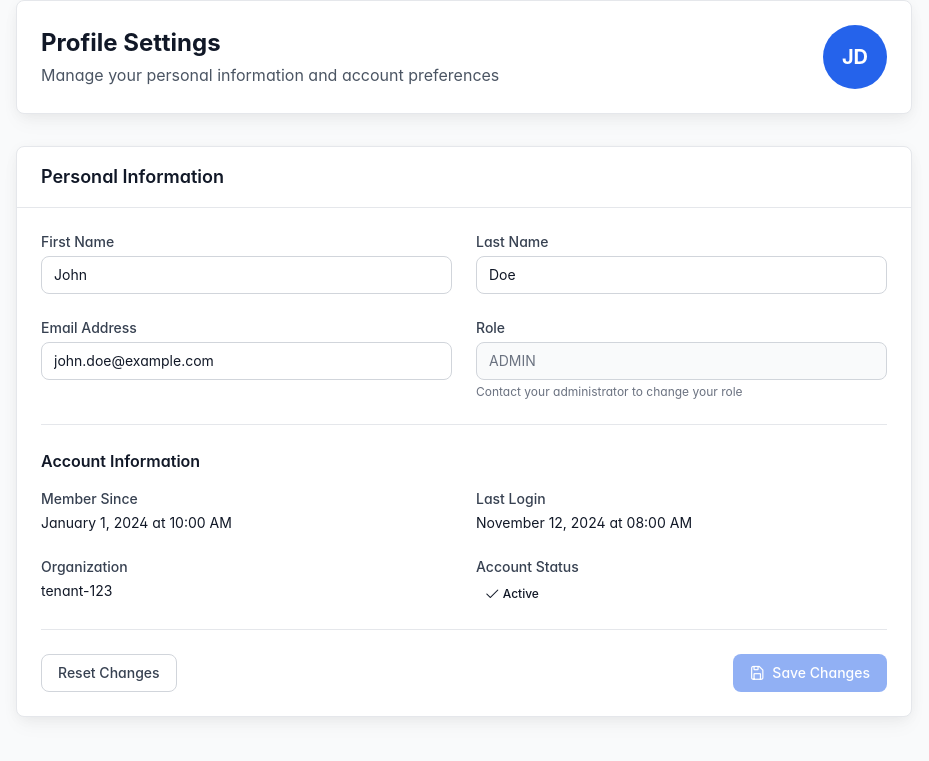
it: ProfileView › Form Validation › should validate required last name
Clear the field with id "lastName": x=682, y=275 [476,256,887,294]
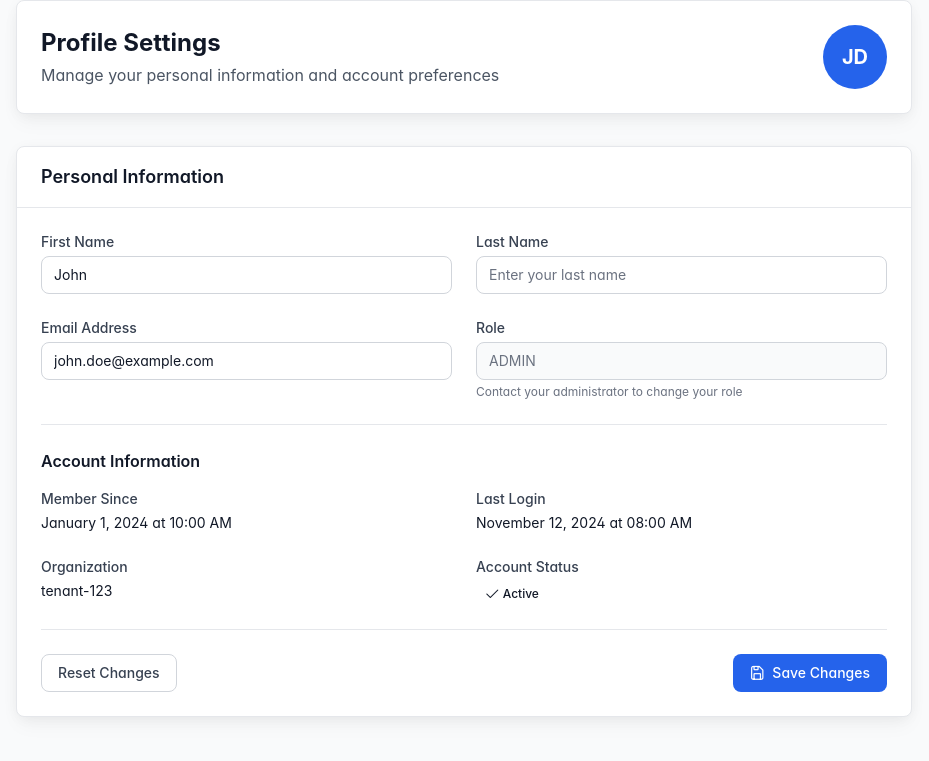
Submit the form
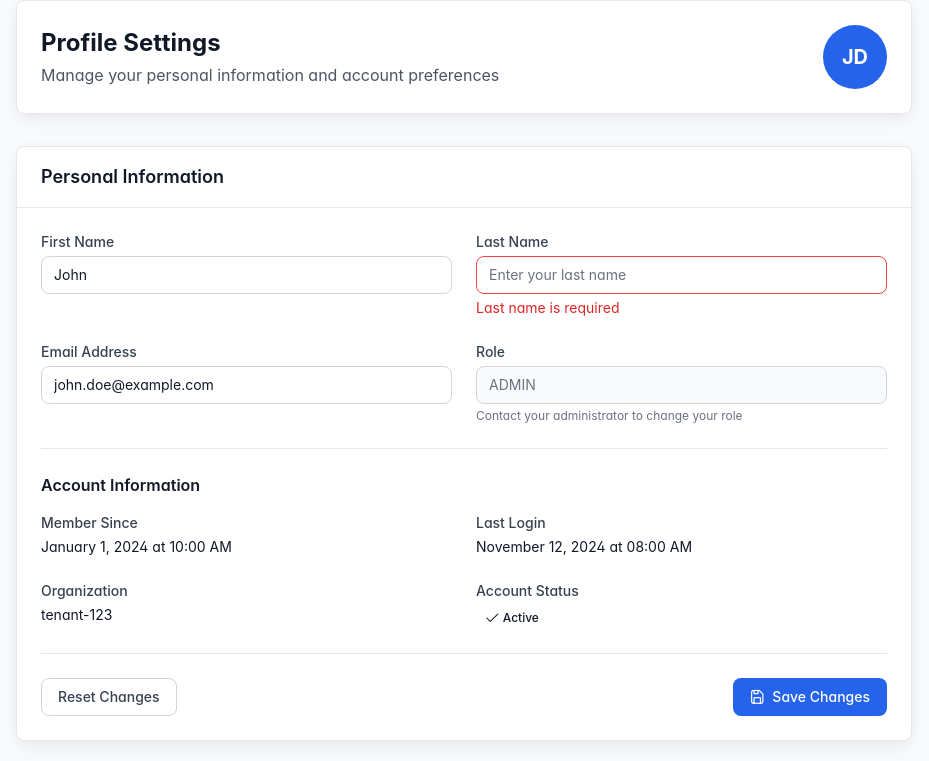
expect the text "Last name is required" is shown: met, box [476,299,620,316]
